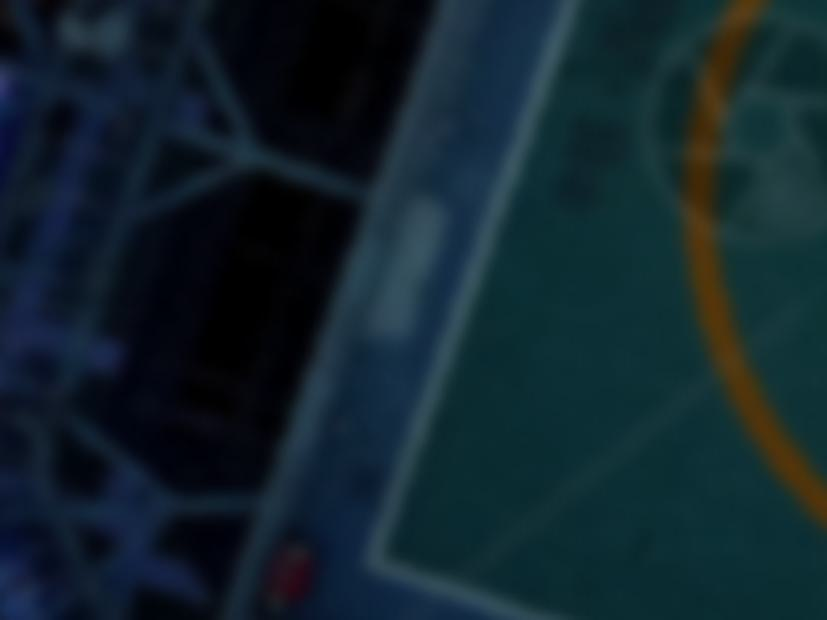Apron: (669, 1, 827, 544)
